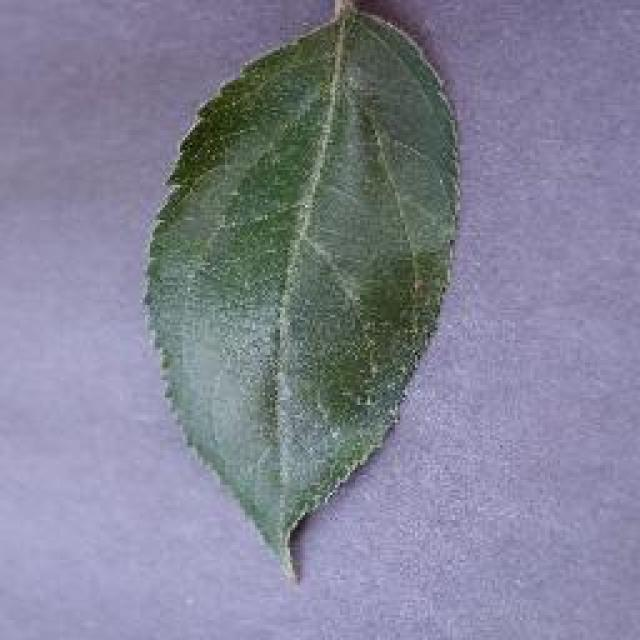apple healthy: (139, 0, 462, 582)
